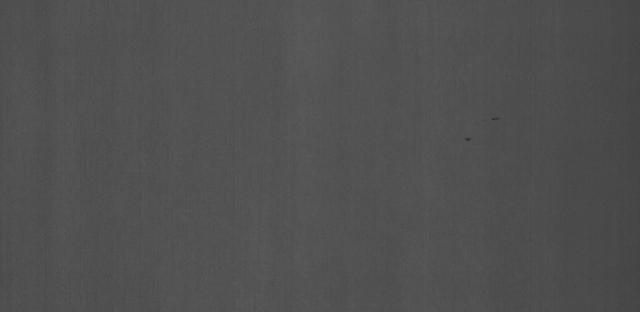inclusion: (456, 130, 481, 148), (487, 110, 500, 127)
